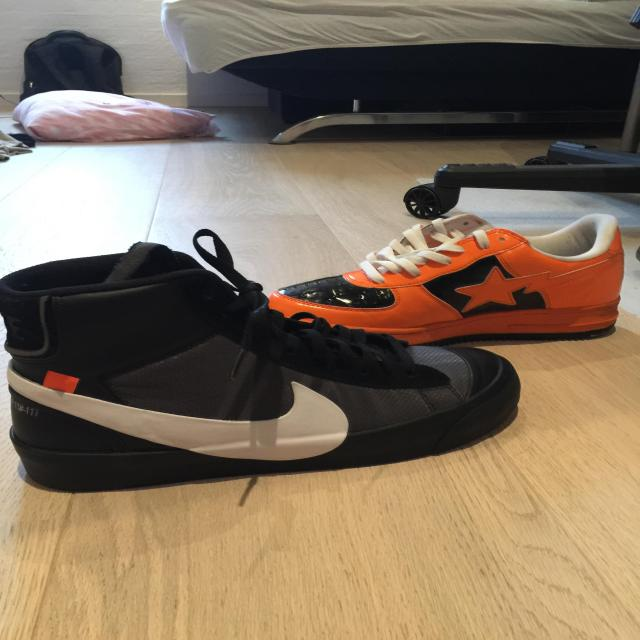shoe: (0, 234, 528, 492), (267, 212, 628, 345)
